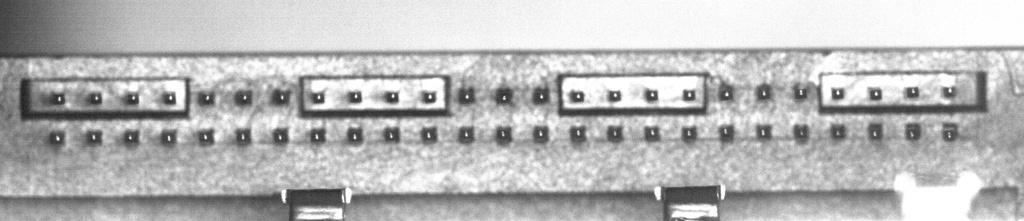pin_ok: (532, 87, 550, 105), (458, 87, 476, 105), (494, 89, 513, 106), (271, 88, 290, 105), (942, 122, 959, 141), (234, 89, 253, 105), (905, 123, 922, 140), (532, 122, 549, 139), (569, 123, 586, 140), (197, 90, 215, 106), (793, 124, 810, 140), (829, 122, 846, 138), (605, 123, 622, 139), (642, 123, 659, 139), (495, 127, 512, 143), (457, 126, 474, 142), (346, 128, 363, 144), (421, 126, 438, 142), (754, 83, 771, 99), (718, 123, 734, 139), (273, 128, 289, 144), (235, 128, 251, 144), (160, 128, 176, 144), (198, 128, 214, 144), (792, 83, 808, 99), (717, 84, 733, 100), (867, 123, 882, 140), (383, 127, 400, 142), (49, 131, 65, 146), (755, 123, 771, 138), (681, 124, 696, 140), (310, 128, 326, 143), (123, 129, 139, 144), (86, 129, 102, 144), (570, 89, 586, 103), (829, 86, 844, 100), (310, 90, 325, 104), (162, 91, 177, 105), (422, 90, 438, 103), (125, 91, 139, 105), (645, 89, 660, 102), (348, 90, 363, 103), (385, 90, 400, 103), (868, 87, 883, 100), (905, 85, 920, 98), (87, 91, 102, 104), (681, 87, 695, 100), (608, 88, 622, 101), (942, 85, 956, 98), (51, 91, 65, 104)
